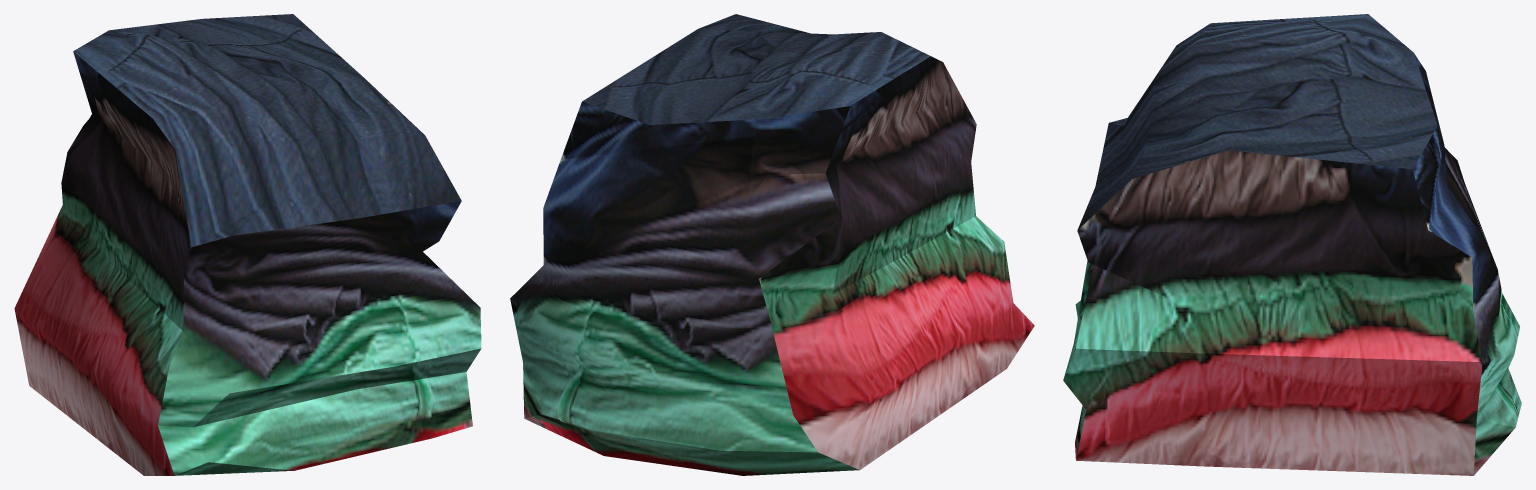
Rendered from shirt_pile-10.FBX.
3 renders of one model, left to right at view 1: azimuth 30°, elevation 25°; view 2: azimuth 150°, elevation 25°; view 3: azimuth 270°, elevation 25°, orthographic. The views are drawn at different scales.
Visible parts, largest first — view 1: Object05; view 2: Object05; view 3: Object05.
Part boxes in pixels (bbox=[...]): Object05: bbox=[14, 14, 481, 475]; Object05: bbox=[510, 14, 1034, 475]; Object05: bbox=[1063, 14, 1521, 475].
Bounding box in the file's own units: 18.2 × 18.95 × 22.49.
